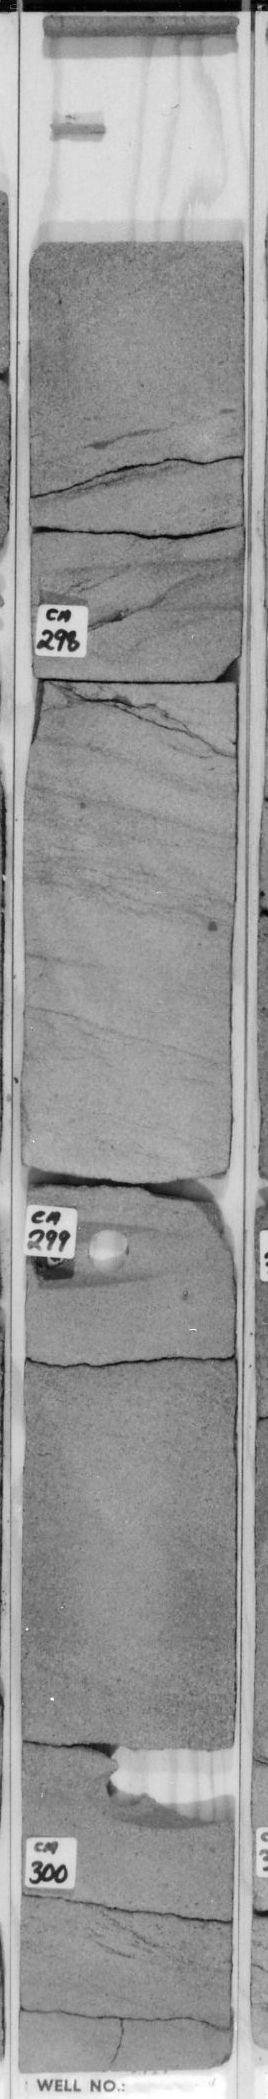hplug: (83, 1736, 234, 1843), (27, 1215, 217, 1294), (32, 557, 208, 633)
